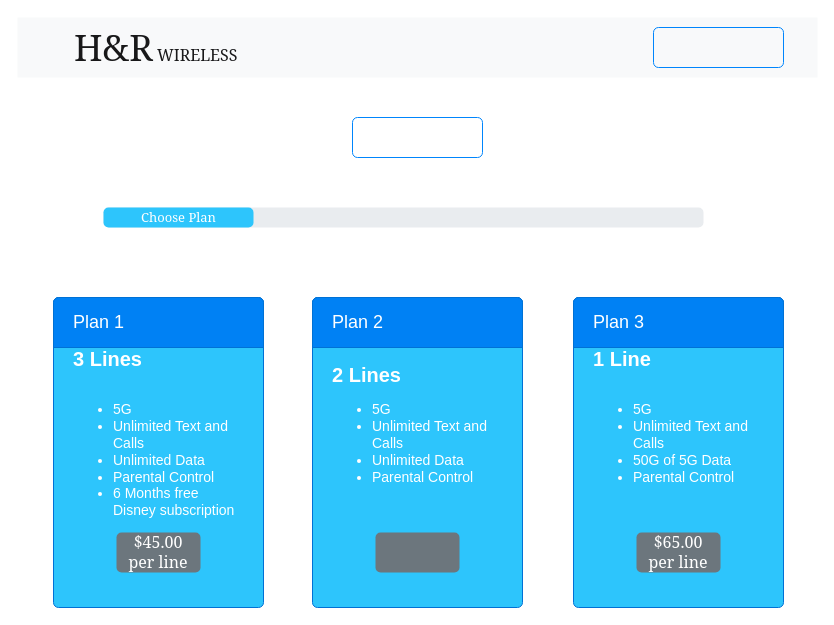
Some shapes in this 834 by 625 pixel diagram are drawn without their labels. The centre of each missing label's shape, as x and y in pixels:
"$55.00 per line" goes at (x=417, y=552).
"New Plan" goes at (x=417, y=137).
"Welcome, Haifa" goes at (x=718, y=47).
